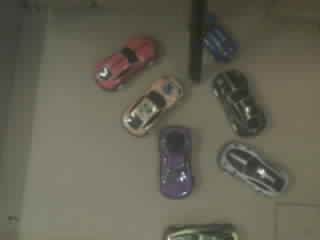Car: (218, 141, 288, 195), (122, 76, 183, 136), (211, 69, 265, 136), (95, 37, 155, 88), (160, 126, 192, 198), (203, 16, 235, 62), (164, 223, 238, 239)
